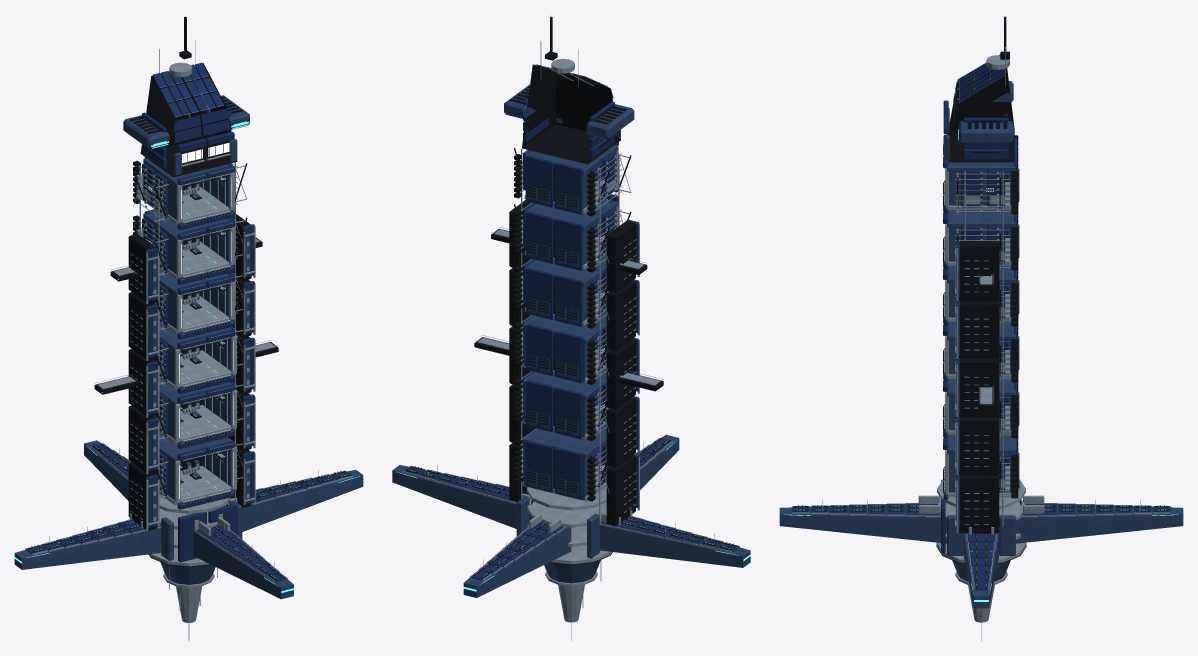
The model's file is outpost-01.glb.
The picture shows the model from 3 angles, left to right: view 1: azimuth 30°, elevation 25°; view 2: azimuth 150°, elevation 25°; view 3: azimuth 270°, elevation 25°; orthographic projection. The views are drawn at different scales.
Parts seen in each view (by area): view 1: Outpost01; view 2: Outpost01; view 3: Outpost01.
Part boxes in pixels (left/top/right/bottom): Outpost01: left=14, top=14, right=363, bottom=641; Outpost01: left=392, top=14, right=750, bottom=641; Outpost01: left=779, top=14, right=1183, bottom=641.
Bounding box in the file's own units: 170 × 294 × 170.
Materials: 8 (4 with a texture image).
